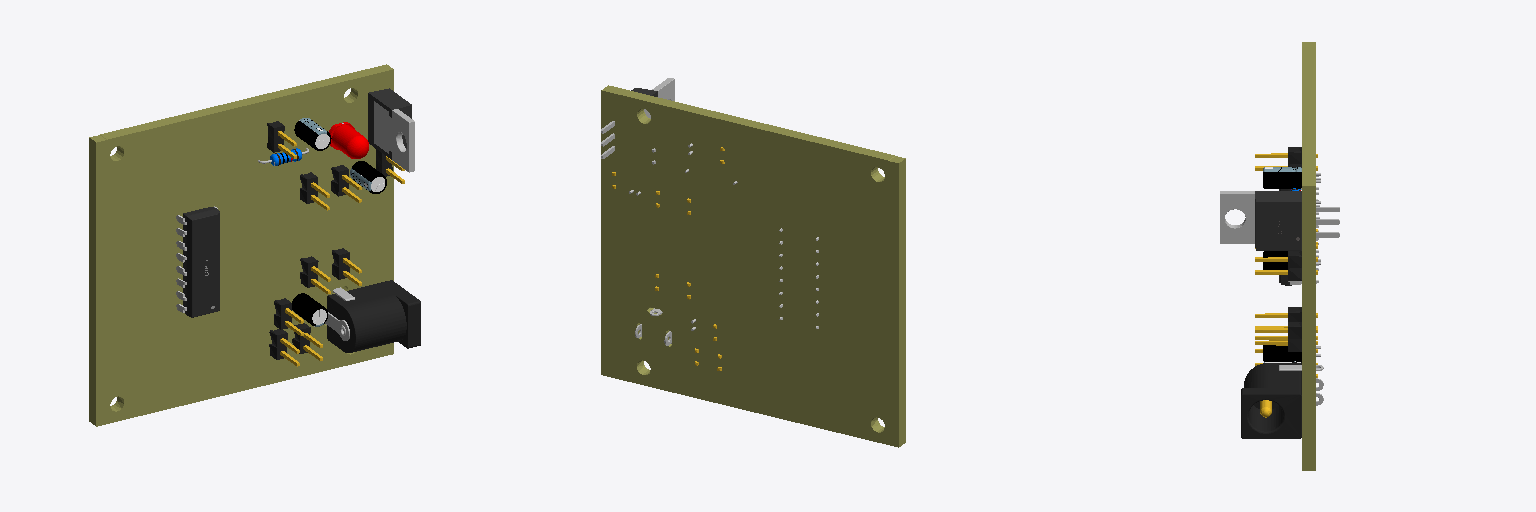
File: OBJ_PCB_Wemos_motor.obj
The picture shows the model from 3 angles: view 1: azimuth 30°, elevation 25°; view 2: azimuth 150°, elevation 25°; view 3: azimuth 270°, elevation 25°; orthographic projection.
Size of the model in its own units: 246 by 225 by 86.22.